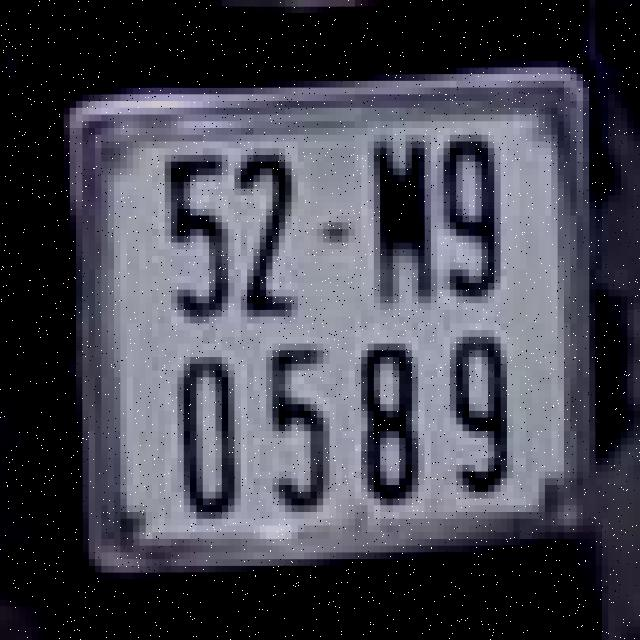0: (178, 357, 247, 526)
2: (234, 145, 310, 320)
5: (158, 138, 234, 327), (253, 344, 329, 526)
8: (348, 327, 431, 515)
9: (441, 324, 529, 506), (434, 128, 516, 310)
M: (355, 128, 437, 317)
